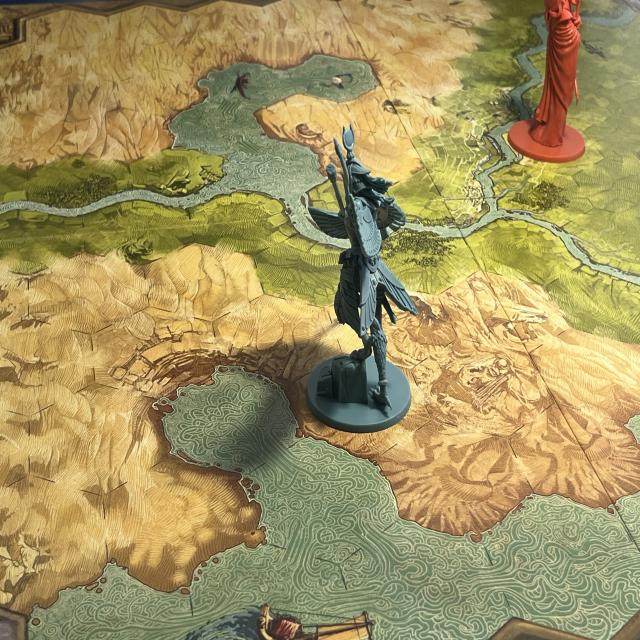amon: (506, 2, 598, 170)
isis: (300, 118, 425, 454)
